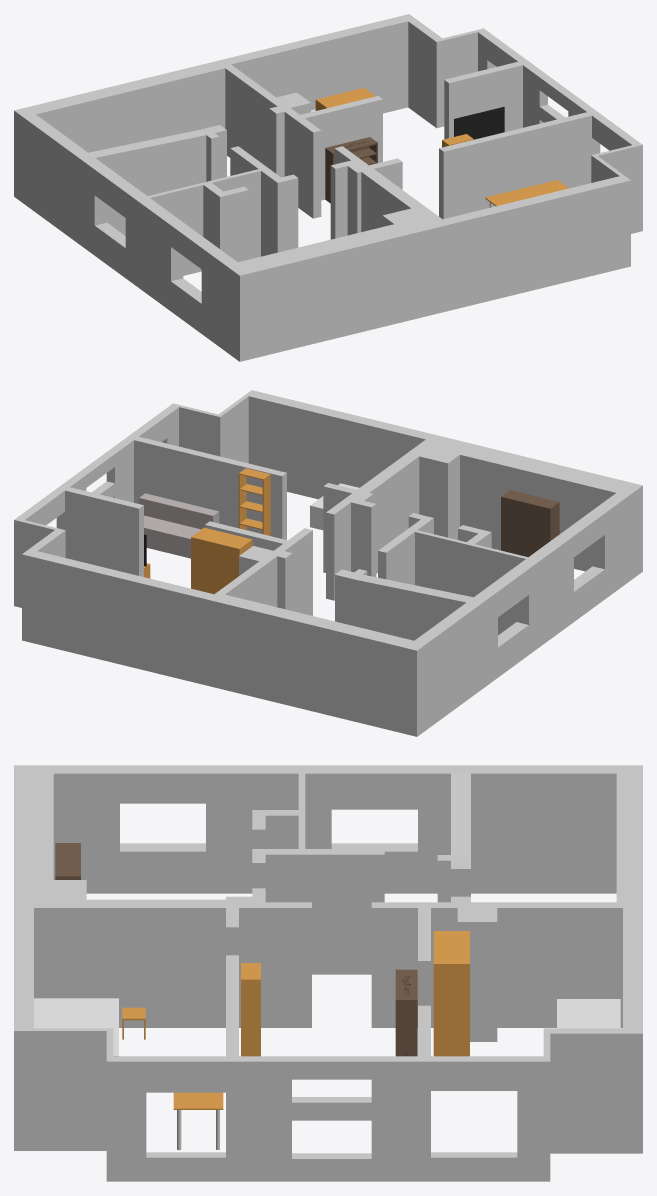
The model's file is House.glb.
The picture shows the model from 3 angles, top to bottom: view 1: azimuth 30°, elevation 25°; view 2: azimuth 150°, elevation 25°; view 3: azimuth 270°, elevation 25°; orthographic projection. The views are drawn at different scales.
Parts seen in each view (by area): view 1: Walls, TV, RegalDami, Desk, Schrank; view 2: Walls, Vitrine, Sofa, Schrank, RegalChuku; view 3: Walls, Schrank, Bett, RegalDami, BettKlein, RegalChuku, Desk, Vitrine.
Part boxes in pixels (box(x1,y1,x2,y2)): Walls: box(14, 14, 642, 361); TV: box(454, 107, 504, 139); RegalDami: box(325, 137, 377, 203); Desk: box(485, 180, 568, 207); Schrank: box(315, 88, 375, 110); Walls: box(14, 390, 642, 736); Vitrine: box(501, 490, 559, 557); Sofa: box(139, 493, 219, 558); Schrank: box(191, 527, 252, 594); RegalChuku: box(238, 468, 270, 535); Walls: box(14, 765, 642, 1181); Schrank: box(433, 931, 469, 1056); Bett: box(34, 998, 118, 1056); RegalDami: box(395, 969, 417, 1056); BettKlein: box(557, 999, 620, 1028); RegalChuku: box(241, 963, 260, 1056); Desk: box(173, 1092, 223, 1150); Vitrine: box(55, 843, 80, 879).
Size of the model in its own units: 10.6 by 2 by 9.5.
